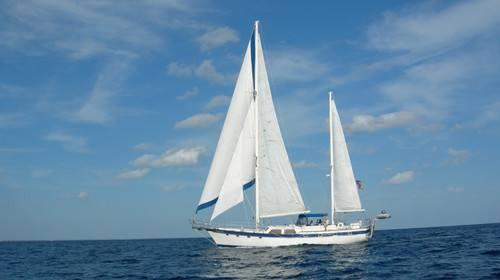fanchuan: (195, 18, 378, 249)
